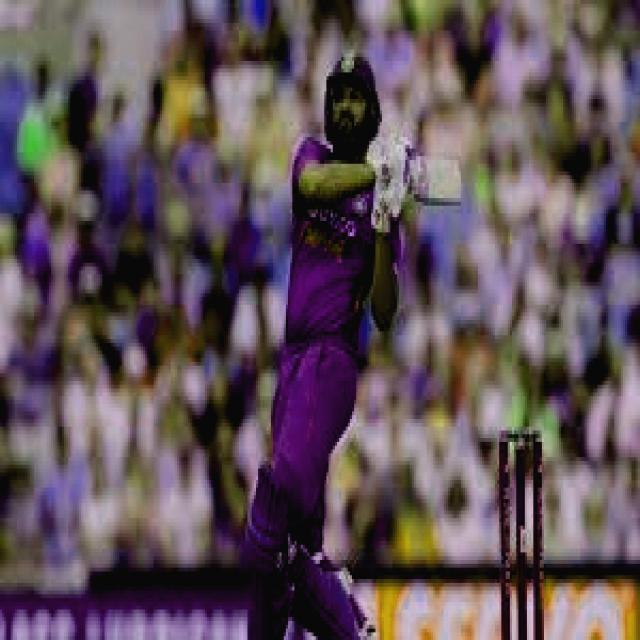toe: (449, 152, 466, 205)
